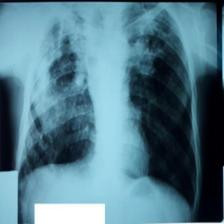tuberculosis: (12, 4, 200, 217)
